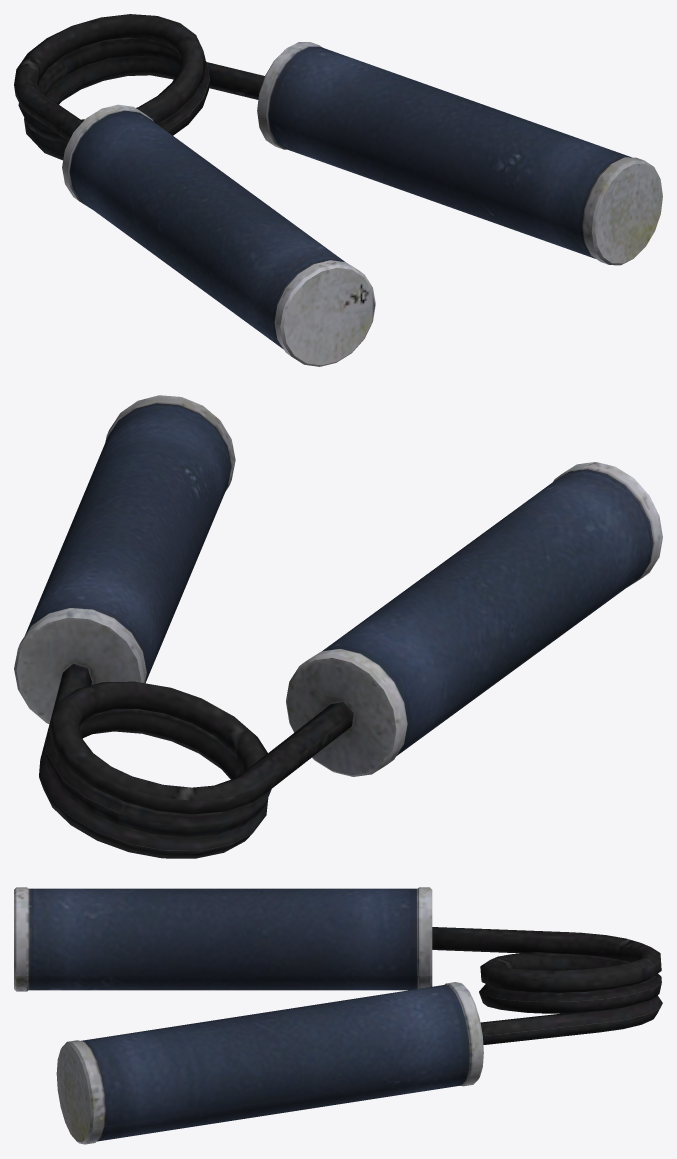
The model's file is gripper.dae.
3 renders of one model, top to bottom at view 1: azimuth 30°, elevation 25°; view 2: azimuth 150°, elevation 25°; view 3: azimuth 270°, elevation 25°, orthographic. The views are drawn at different scales.
Parts seen in each view (by area): view 1: gripper; view 2: gripper; view 3: gripper.
Part boxes in pixels (<box>): gripper: <box>14,14,662,366</box>; gripper: <box>14,395,662,858</box>; gripper: <box>14,887,662,1144</box>.
Size of the model in its own units: 7.02 by 1.62 by 9.84.
